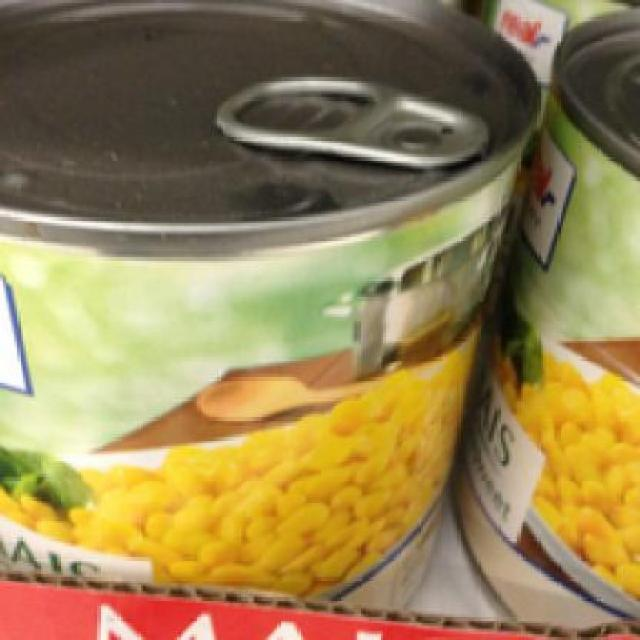Corn: (0, 0, 526, 600), (452, 23, 638, 623)
